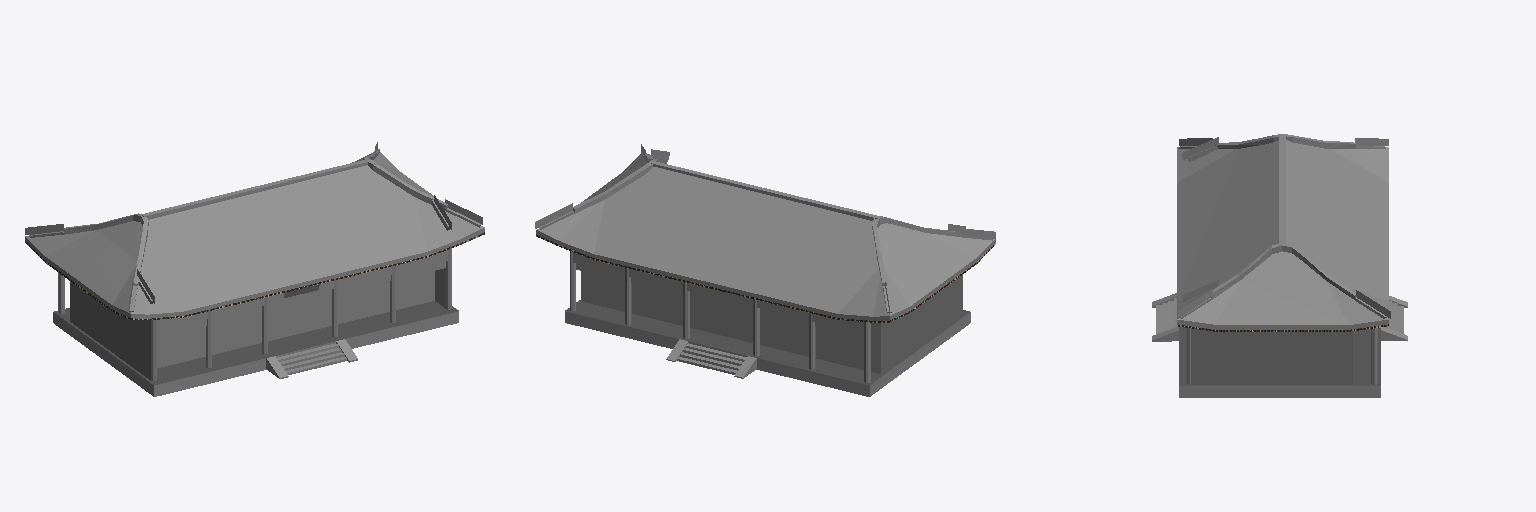
The picture shows the model from 3 angles: view 1: azimuth 30°, elevation 25°; view 2: azimuth 150°, elevation 25°; view 3: azimuth 270°, elevation 25°; orthographic projection.
Parts seen in each view (by area): view 1: X_22_HB_001; view 2: X_22_HB_001; view 3: X_22_HB_001.
Part boxes in pixels (left/top/right/bottom): X_22_HB_001: left=25, top=142, right=484, bottom=396; X_22_HB_001: left=535, top=144, right=995, bottom=396; X_22_HB_001: left=1152, top=134, right=1407, bottom=397.
Size of the model in its own units: 19.82 by 7.17 by 12.36.
9 materials, 1 textured.